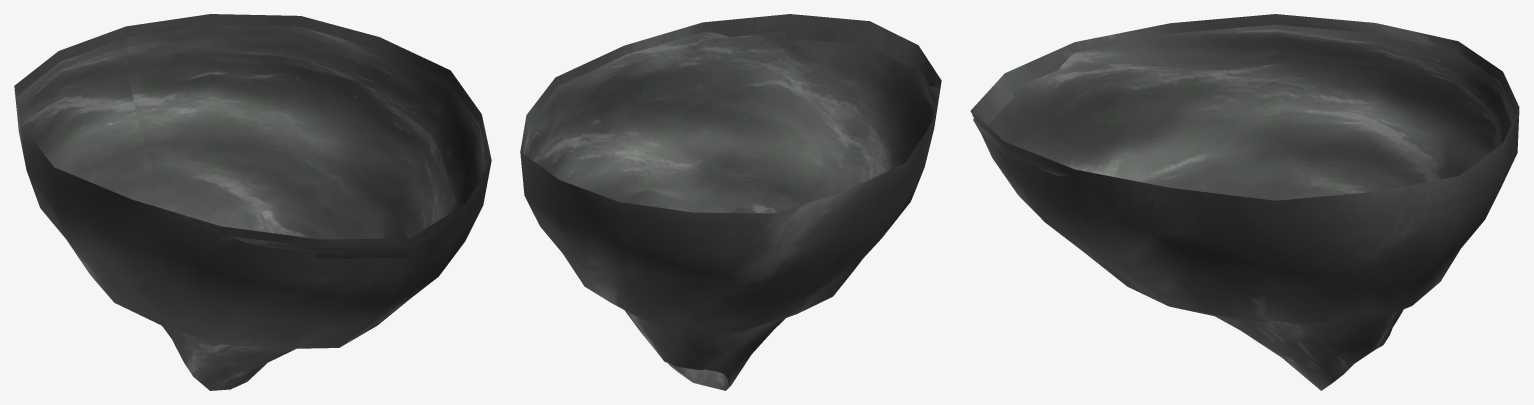
The model's file is 00_01_ripples_toilet_flush.dae.
The picture shows the model from 3 angles, left to right: view 1: azimuth 30°, elevation 25°; view 2: azimuth 150°, elevation 25°; view 3: azimuth 270°, elevation 25°; orthographic projection. The views are drawn at different scales.
Visible parts, largest first — view 1: backup, watwer_ripples; view 2: backup, watwer_ripples; view 3: backup, watwer_ripples.
Part boxes in pixels (left/top/right/bottom): backup: left=17, top=25, right=487, bottom=258; watwer_ripples: left=14, top=14, right=491, bottom=390; backup: left=523, top=31, right=939, bottom=389; watwer_ripples: left=520, top=14, right=941, bottom=390; backup: left=973, top=24, right=1515, bottom=200; watwer_ripples: left=970, top=14, right=1519, bottom=390.
Size of the model in its own units: 0.5012 by 0.3484 by 0.6228.
